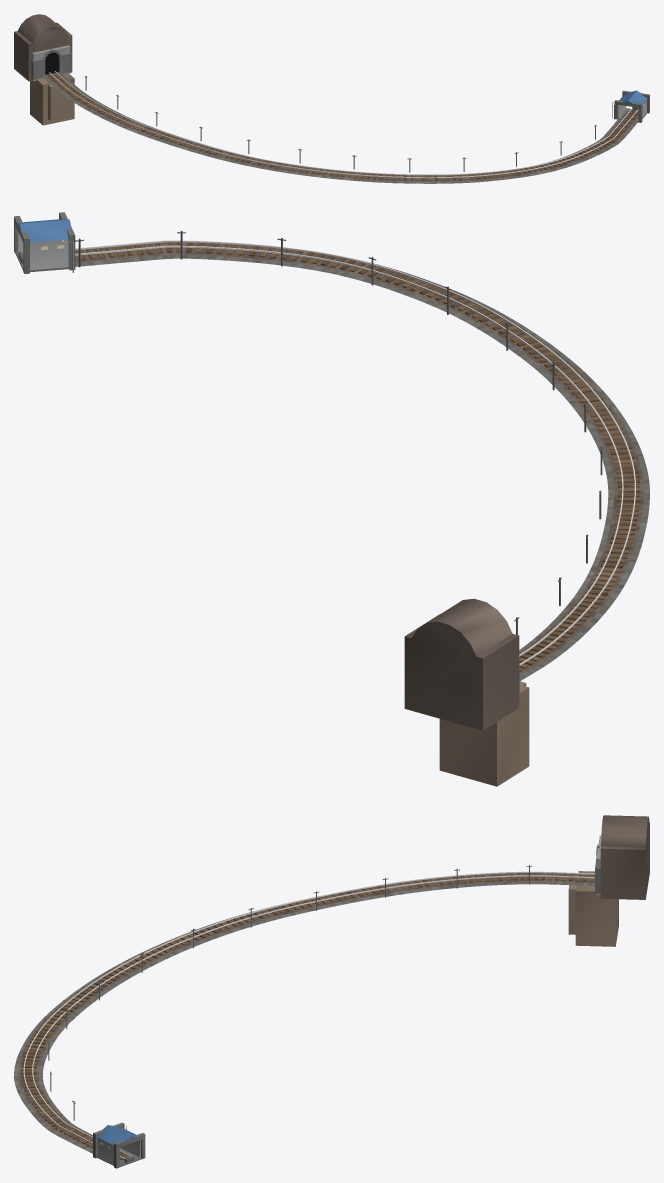
Rendered from Rail_P2.fbx.
3 renders of one model, top to bottom at view 1: azimuth 30°, elevation 25°; view 2: azimuth 150°, elevation 25°; view 3: azimuth 270°, elevation 25°, orthographic. The views are drawn at different scales.
Visible parts, largest first — view 1: Rail.Portal, Rail.Bed, Rail.Sleepers, Rail.Ballast, Rail.Rail.001, Rail.Rail, Rail.Shed, Rail.Masts; view 2: Rail.Portal, Rail.Sleepers, Rail.Bed, Rail.Ballast, Rail.Shed, Rail.Rail, Rail.Rail.001, Rail.Masts; view 3: Rail.Portal, Rail.Sleepers, Rail.Bed, Rail.Ballast, Rail.Shed, Rail.Rail, Rail.Rail.001.
Boxes of the visible parts, x1=… form: Rail.Portal: x1=14, y1=14, x2=74, y2=125; Rail.Bed: x1=45, y1=72, x2=638, y2=181; Rail.Sleepers: x1=47, y1=72, x2=638, y2=180; Rail.Ballast: x1=43, y1=73, x2=637, y2=183; Rail.Rail.001: x1=54, y1=71, x2=632, y2=175; Rail.Rail: x1=49, y1=72, x2=638, y2=178; Rail.Shed: x1=614, y1=90, x2=649, y2=122; Rail.Masts: x1=85, y1=76, x2=614, y2=172; Rail.Portal: x1=404, y1=598, x2=529, y2=786; Rail.Sleepers: x1=75, y1=242, x2=640, y2=671; Rail.Bed: x1=75, y1=242, x2=643, y2=674; Rail.Ballast: x1=75, y1=254, x2=649, y2=681; Rail.Shed: x1=14, y1=212, x2=75, y2=273; Rail.Rail: x1=23, y1=240, x2=635, y2=665; Rail.Rail.001: x1=75, y1=245, x2=623, y2=656; Rail.Masts: x1=75, y1=231, x2=602, y2=634; Rail.Portal: x1=568, y1=815, x2=649, y2=946; Rail.Sleepers: x1=20, y1=873, x2=594, y2=1159; Rail.Bed: x1=18, y1=873, x2=594, y2=1160; Rail.Ballast: x1=14, y1=881, x2=594, y2=1153; Rail.Shed: x1=93, y1=1122, x2=145, y2=1168; Rail.Rail: x1=23, y1=871, x2=594, y2=1159; Rail.Rail.001: x1=32, y1=875, x2=594, y2=1156.
Bounding box in the file's own units: 27306 × 5193 × 25334.
